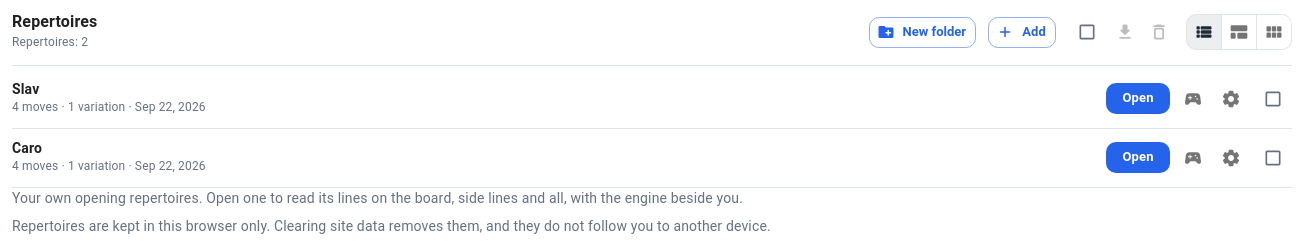
Test: the Repertoires list › picks rows for export in the list view
Click the checkbox named "Select this repertoire": [1273, 158] box [1263, 148, 1283, 168]
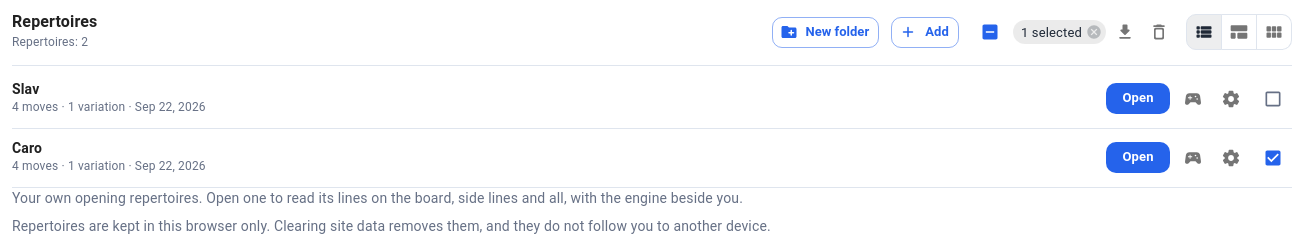
Expected: the button with test id "repertoires-selected-count" shows "1", [1013, 20, 1106, 44]
Click the checkbox named "Select all repertoires": [990, 32] box [980, 22, 1000, 42]
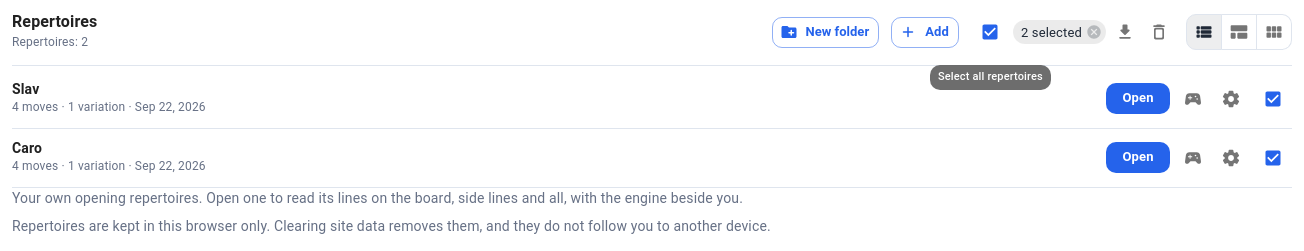
Expected: the button with test id "repertoires-download" is enabled, [1110, 17, 1140, 47]
Expected: the button with test id "repertoires-selected-count" shows "2", [1013, 20, 1106, 44]
